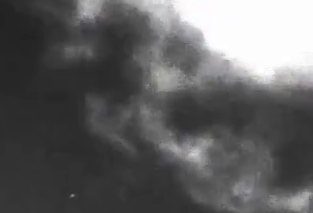Target: (70, 194, 75, 197)
